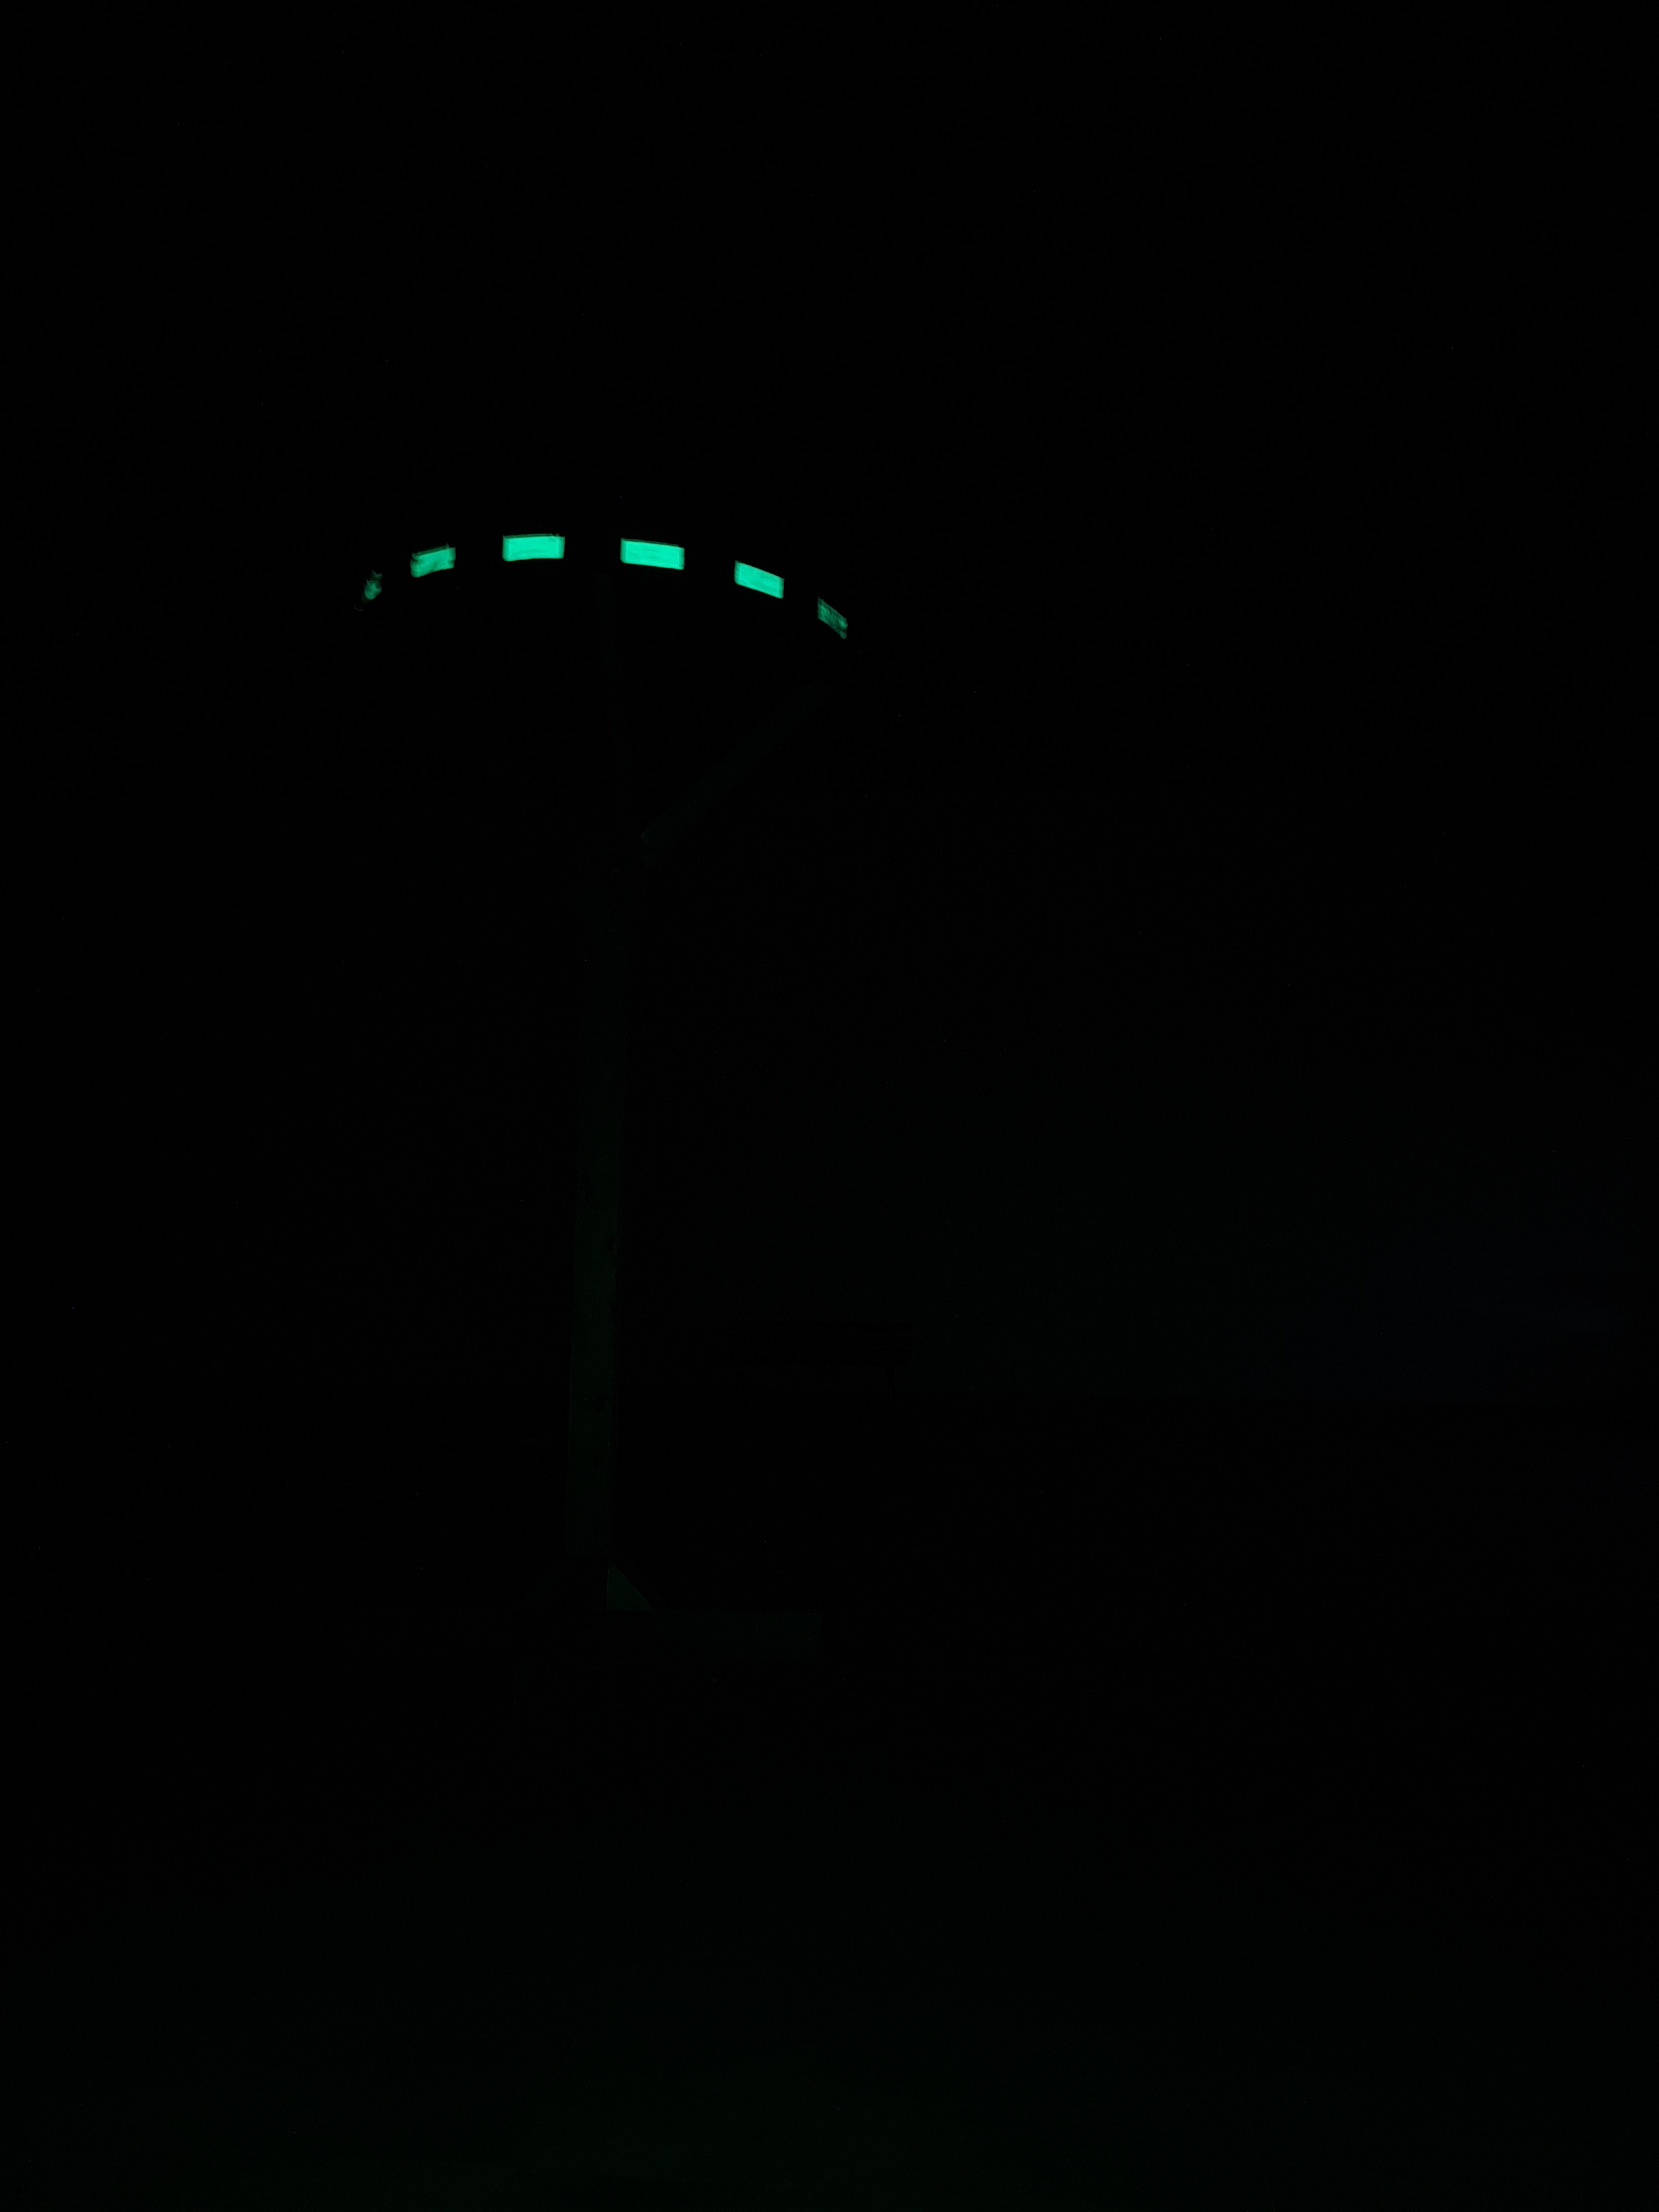hoop: (352, 519, 854, 644)
